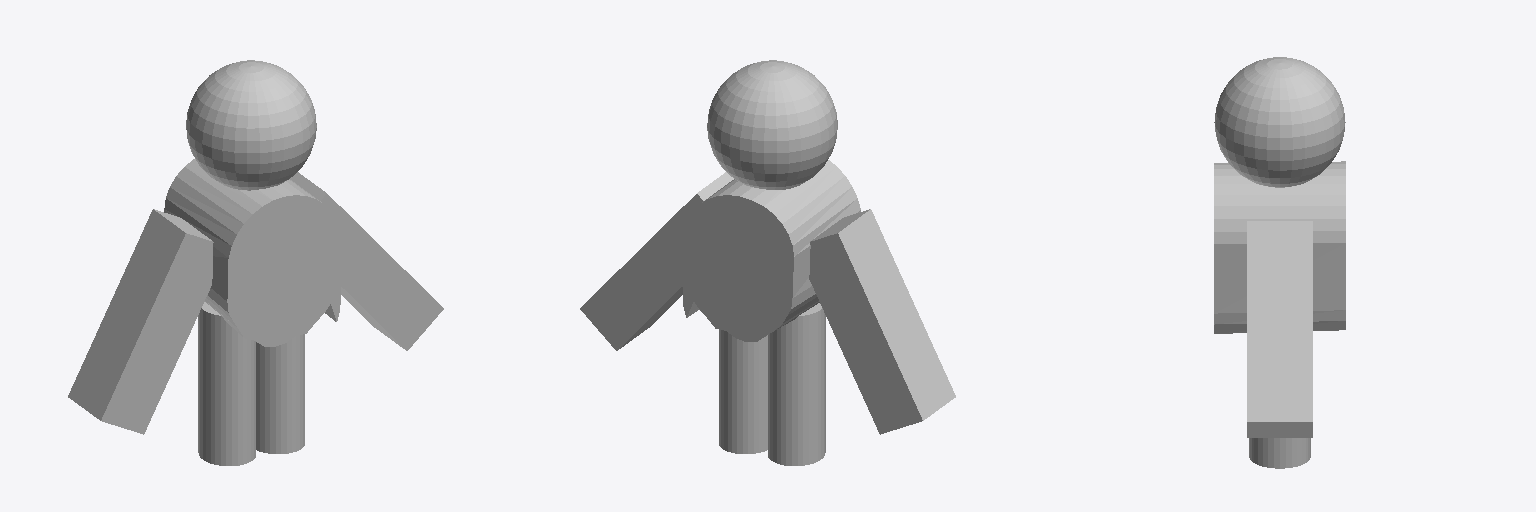
The model's file is Figurine20.obj.
The picture shows the model from 3 angles: view 1: azimuth 30°, elevation 25°; view 2: azimuth 150°, elevation 25°; view 3: azimuth 270°, elevation 25°; orthographic projection.
Parts seen in each view (by area): view 1: Cylinder; view 2: Cylinder; view 3: Cylinder.
Part boxes in pixels (x1,y1,x2,y2): Cylinder: (68, 60, 443, 465); Cylinder: (580, 60, 955, 465); Cylinder: (1214, 57, 1345, 468).
Bounding box in the file's own units: 6.05 × 6.42 × 2.